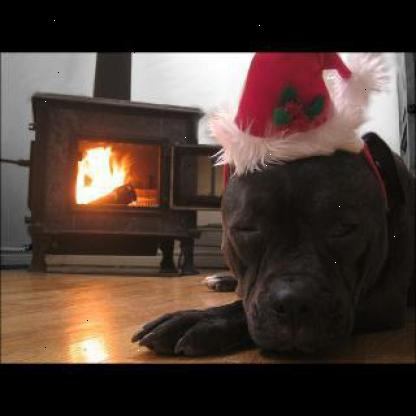fire: (66, 143, 134, 207)
